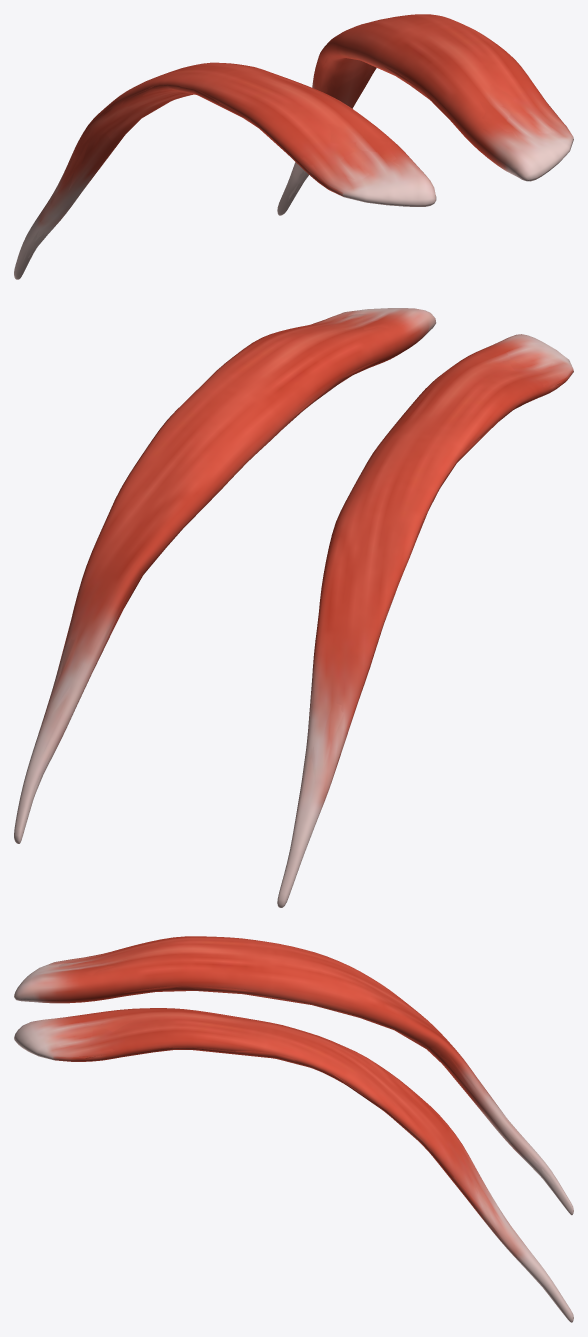
Rendered from Psoas major.fbx.
3 views of the same model, one above another, from view 1: azimuth 30°, elevation 25°; view 2: azimuth 150°, elevation 25°; view 3: azimuth 270°, elevation 25° (orthographic). The views are drawn at different scales.
Parts seen in each view (by area): view 1: Psoas major, Psoas major low; view 2: Psoas major, Psoas major low; view 3: Psoas major, Psoas major low.
Part boxes in pixels (<box>): Psoas major: <box>14,14,573,279</box>; Psoas major low: <box>21,55,563,264</box>; Psoas major: <box>14,308,573,907</box>; Psoas major low: <box>31,313,564,815</box>; Psoas major: <box>14,936,573,1322</box>; Psoas major low: <box>23,953,561,1302</box>.
Size of the model in its own units: 28.16 by 31.47 by 55.72.
